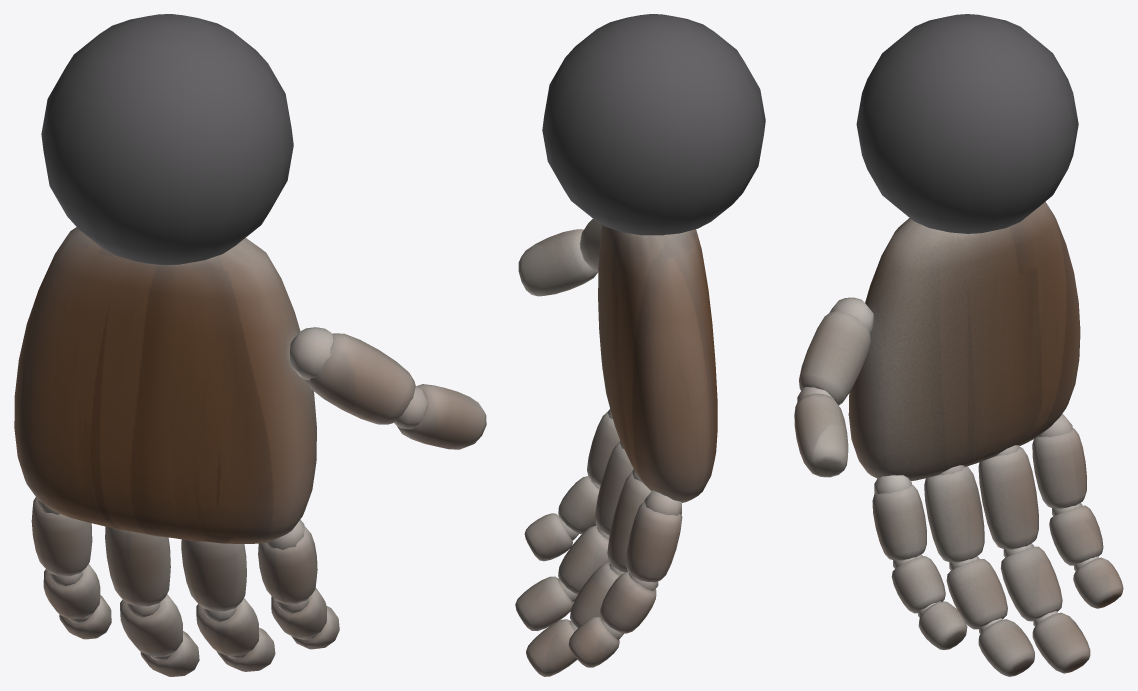
File: Hand_R.glb
3 views of the same model, side by side, from view 1: azimuth 30°, elevation 25°; view 2: azimuth 150°, elevation 25°; view 3: azimuth 270°, elevation 25° (orthographic). The views are drawn at different scales.
Parts seen in each view (by area): view 1: Hand_R, Hand_R_Ball; view 2: Hand_R, Hand_R_Ball; view 3: Hand_R, Hand_R_Ball.
Boxes of the visible parts, box(x1,y1,x2,y2) form: Hand_R: box(14, 227, 486, 676); Hand_R_Ball: box(41, 14, 293, 265); Hand_R: box(515, 219, 717, 676); Hand_R_Ball: box(542, 14, 765, 235); Hand_R: box(794, 201, 1123, 676); Hand_R_Ball: box(856, 14, 1078, 233).
Size of the model in its own units: 0.112 by 0.2219 by 0.1066.
Materials: 2 (1 with a texture image).
